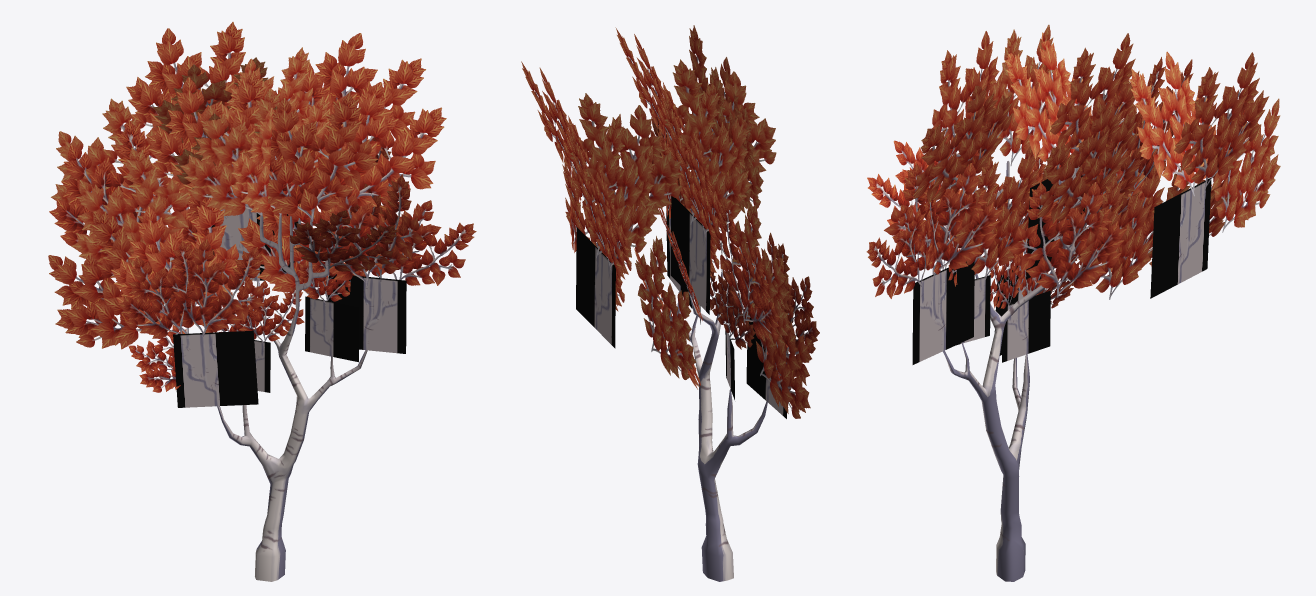
File: Tree1.obj
3 views of the same model, side by side, from view 1: azimuth 30°, elevation 25°; view 2: azimuth 150°, elevation 25°; view 3: azimuth 270°, elevation 25° (orthographic). The views are drawn at different scales.
Parts seen in each view (by area): view 1: pPlane98; view 2: pPlane98; view 3: pPlane98.
Boxes of the visible parts, x1=… form: pPlane98: x1=48, y1=22, x2=476, y2=581; pPlane98: x1=521, y1=25, x2=819, y2=581; pPlane98: x1=866, y1=24, x2=1280, y2=581.
Size of the model in its own units: 52.69 by 68.84 by 49.58.
